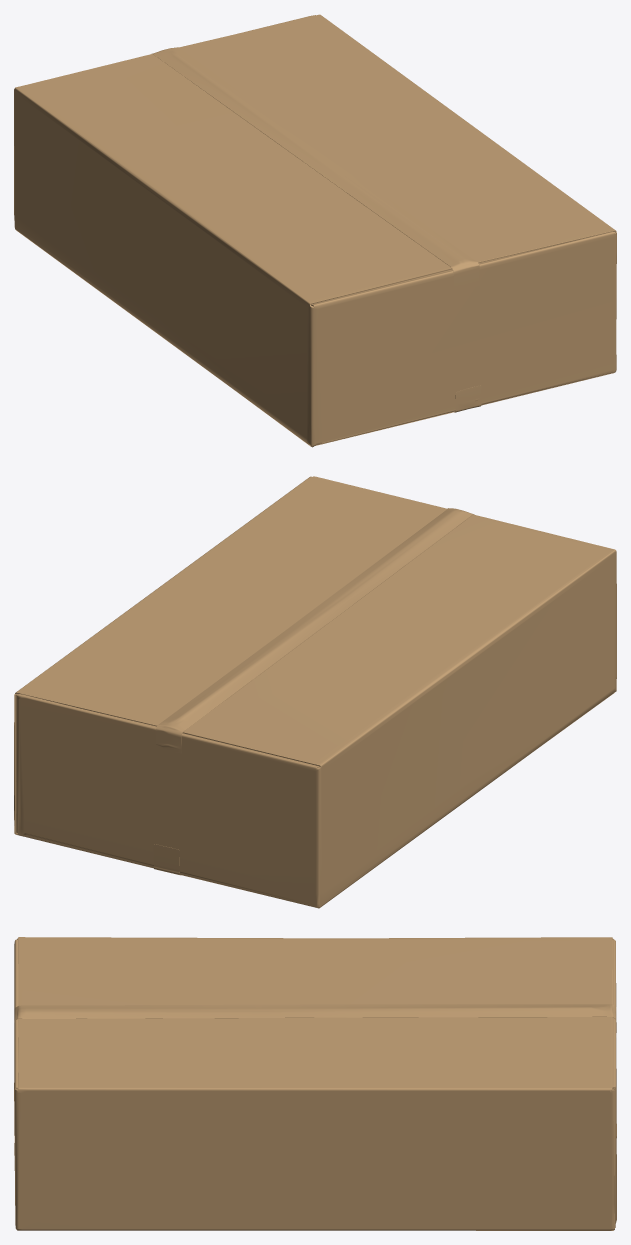
Rendered from box_flat_brown_b13.glb.
3 views of the same model, one above another, from view 1: azimuth 30°, elevation 25°; view 2: azimuth 150°, elevation 25°; view 3: azimuth 270°, elevation 25° (orthographic).
Bounding box in the file's own units: 0.3616 × 0.1654 × 0.6096.
